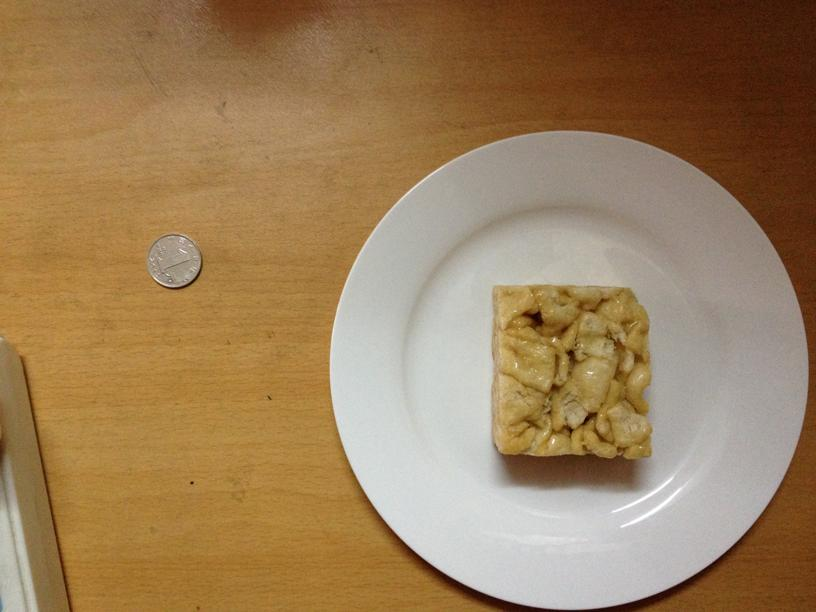coin: (143, 233, 204, 286)
sachima: (481, 281, 655, 458)
